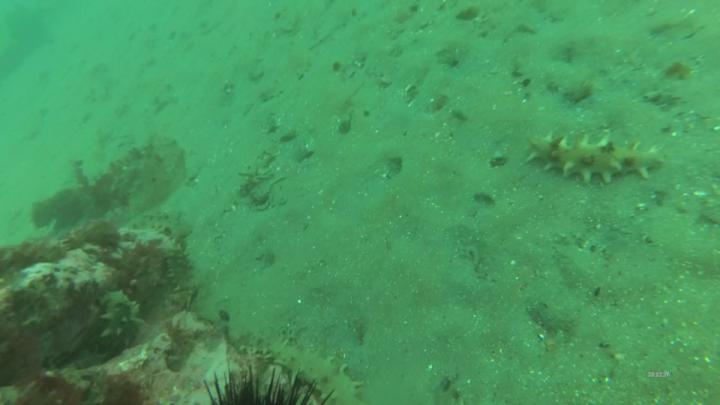echinus: (200, 353, 343, 405)
holothurian: (523, 130, 664, 189), (95, 289, 146, 357), (128, 212, 194, 245), (162, 247, 196, 296)
